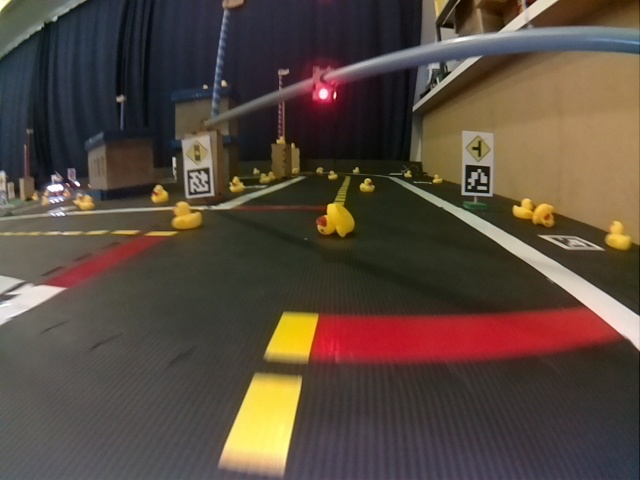Duckie: (317, 204, 354, 236), (173, 201, 201, 228), (605, 221, 629, 249), (533, 203, 554, 226), (513, 198, 534, 219), (152, 188, 168, 203), (80, 196, 93, 210), (360, 179, 374, 190), (230, 182, 243, 192), (328, 170, 337, 178), (433, 174, 441, 182)
Intersection sign: (464, 134, 491, 164)
QR code: (539, 235, 603, 250), (463, 164, 492, 195), (188, 167, 211, 196)
Signal sign: (184, 140, 211, 165)
Traffic light: (314, 68, 337, 103)
